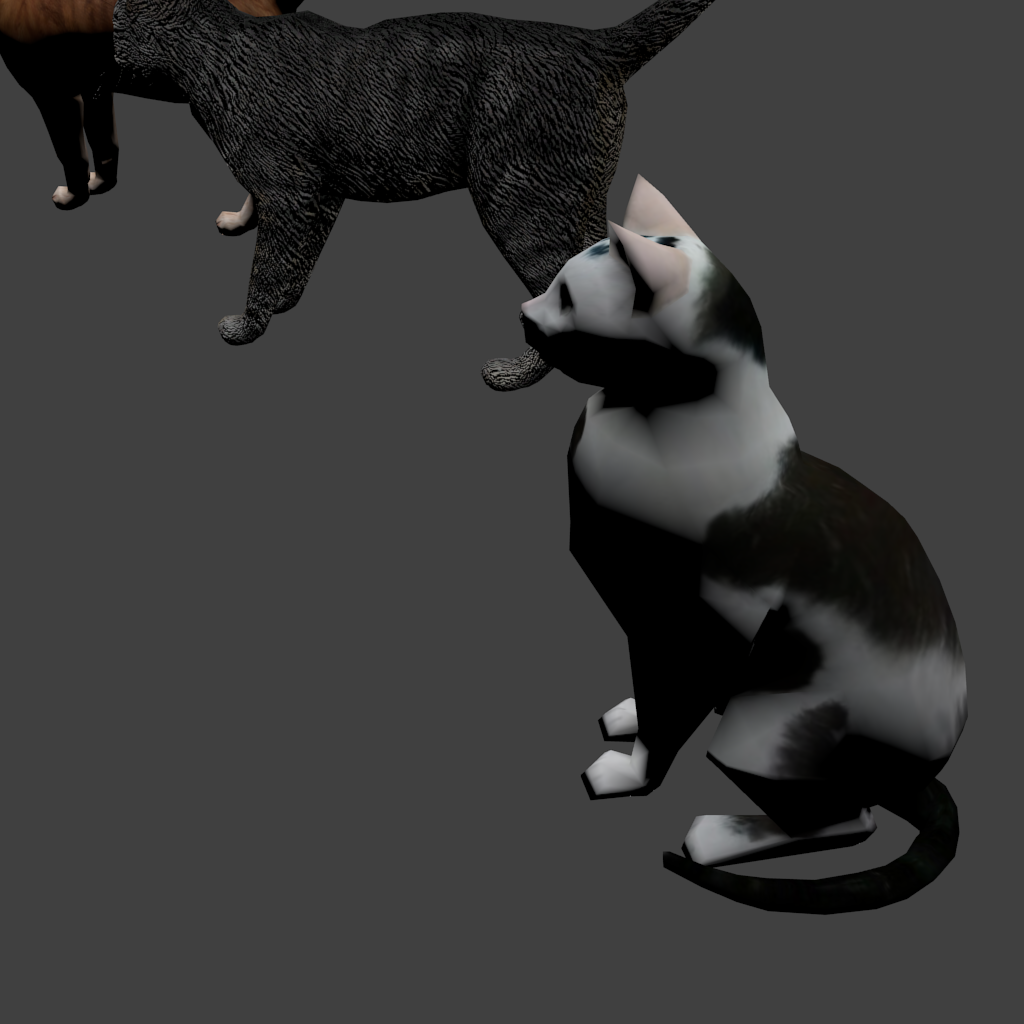Cat: (59, 0, 803, 392), (0, 0, 407, 237)
